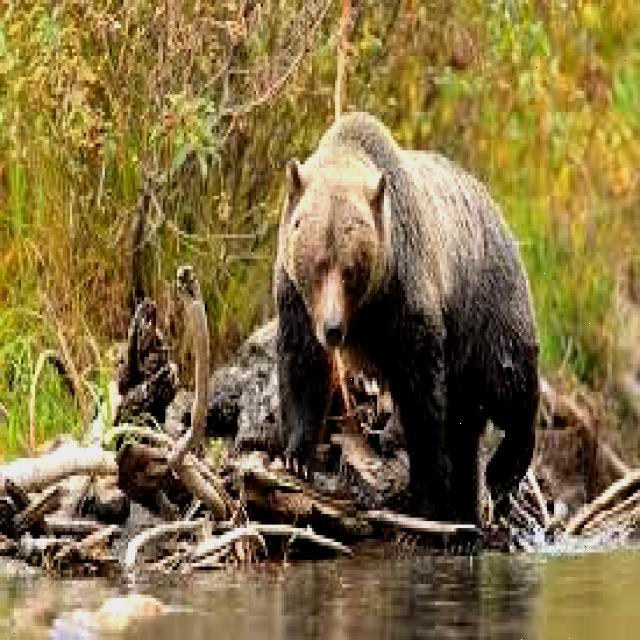bear: (251, 80, 534, 534)
